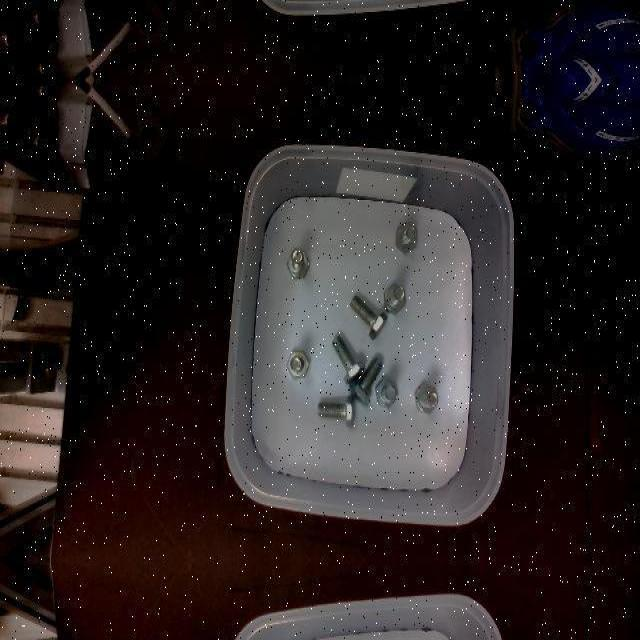screw: (332, 333, 365, 383), (350, 356, 383, 406), (350, 294, 387, 338), (317, 394, 355, 428), (375, 378, 399, 410), (413, 382, 437, 414), (383, 283, 406, 315), (287, 249, 310, 279), (286, 349, 309, 379), (395, 221, 417, 251)
